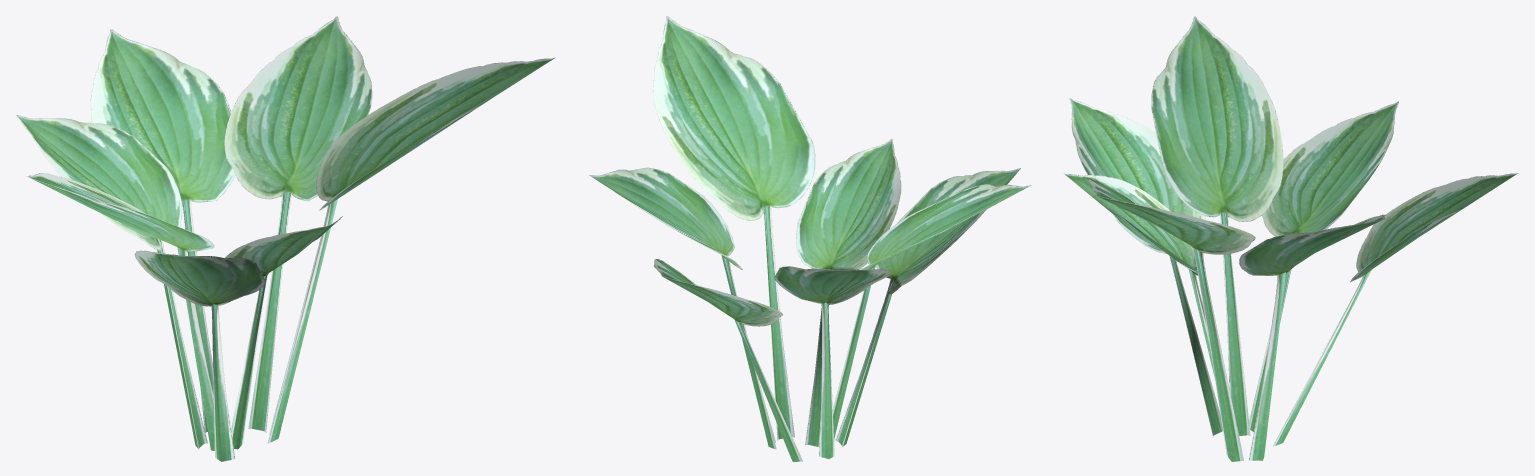
File: plant_small_wg_03A.fbx
The picture shows the model from 3 angles, left to right: view 1: azimuth 30°, elevation 25°; view 2: azimuth 150°, elevation 25°; view 3: azimuth 270°, elevation 25°; orthographic projection. The views are drawn at different scales.
Visible parts, largest first — view 1: plant_small_wg_03A; view 2: plant_small_wg_03A; view 3: plant_small_wg_03A.
Part boxes in pixels (x1,y1,x2,y2): plant_small_wg_03A: (16,16,555,461); plant_small_wg_03A: (589,16,1031,461); plant_small_wg_03A: (1063,16,1518,461).
Bounding box in the file's own units: 59.64 × 45.74 × 52.62.
